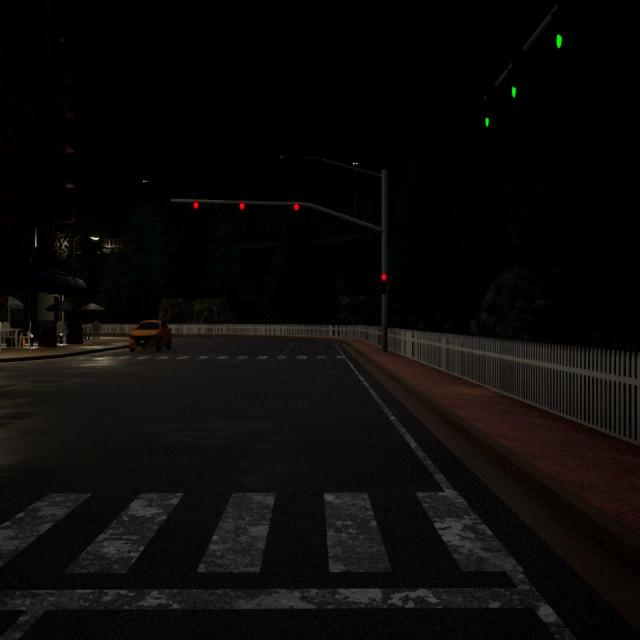Vehicle: (128, 320, 172, 354)
traffic_light: (555, 33, 563, 49), (381, 273, 386, 294), (512, 86, 516, 101), (293, 203, 300, 211), (485, 117, 490, 128), (193, 201, 199, 209), (239, 202, 245, 210)
